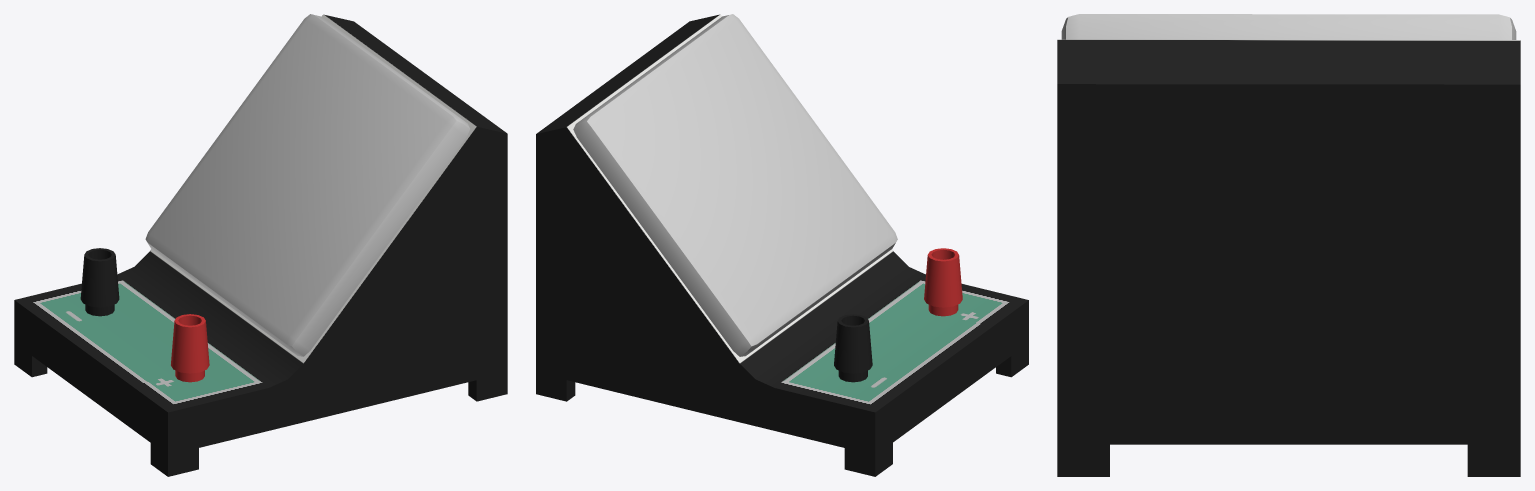
File: SM_Ammeter_01.fbx
The picture shows the model from 3 angles, left to right: view 1: azimuth 30°, elevation 25°; view 2: azimuth 150°, elevation 25°; view 3: azimuth 270°, elevation 25°; orthographic projection. The views are drawn at different scales.
Visible parts, largest first — view 1: SM_Ammeter_01_LOD0; view 2: SM_Ammeter_01_LOD0; view 3: SM_Ammeter_01_LOD0.
Part boxes in pixels (x1,y1,x2,y2): SM_Ammeter_01_LOD0: (14, 14, 507, 476); SM_Ammeter_01_LOD0: (536, 14, 1028, 476); SM_Ammeter_01_LOD0: (1057, 14, 1520, 476).
Size of the model in its own units: 16.53 by 12.96 by 13.21.
